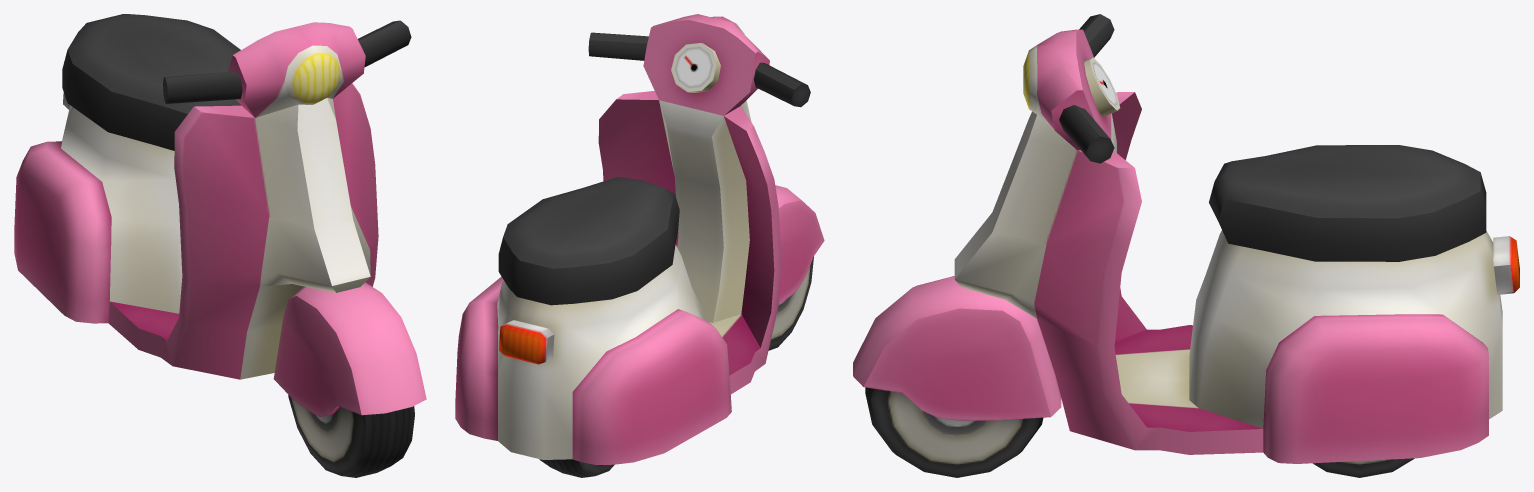
The model's file is scooter.FBX.
The picture shows the model from 3 angles, left to right: view 1: azimuth 30°, elevation 25°; view 2: azimuth 150°, elevation 25°; view 3: azimuth 270°, elevation 25°; orthographic projection. The views are drawn at different scales.
Parts seen in each view (by area): view 1: scooter; view 2: scooter; view 3: scooter.
Boxes of the visible parts, x1,y1,x2,y2 form: scooter: [14, 14, 426, 477]; scooter: [455, 14, 824, 477]; scooter: [853, 14, 1519, 477].
Size of the model in its own units: 26.53 by 40.22 by 56.81.
